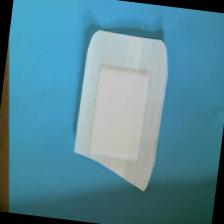Cut: (66, 20, 179, 199)
